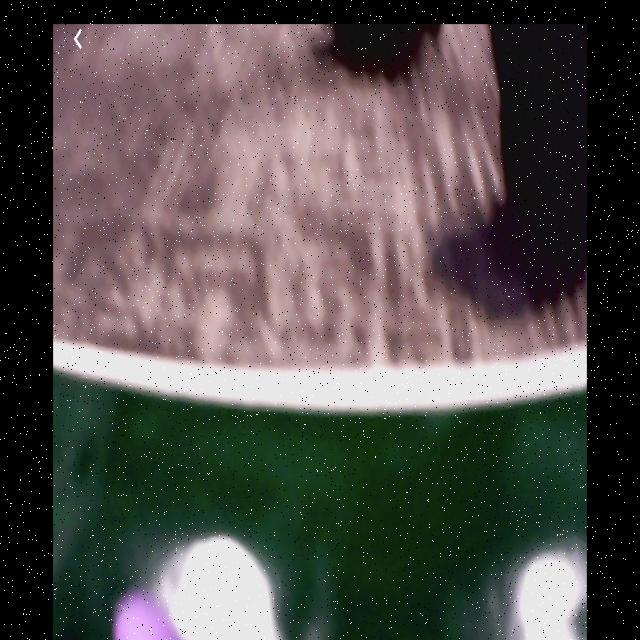ball: (113, 589, 177, 639)
